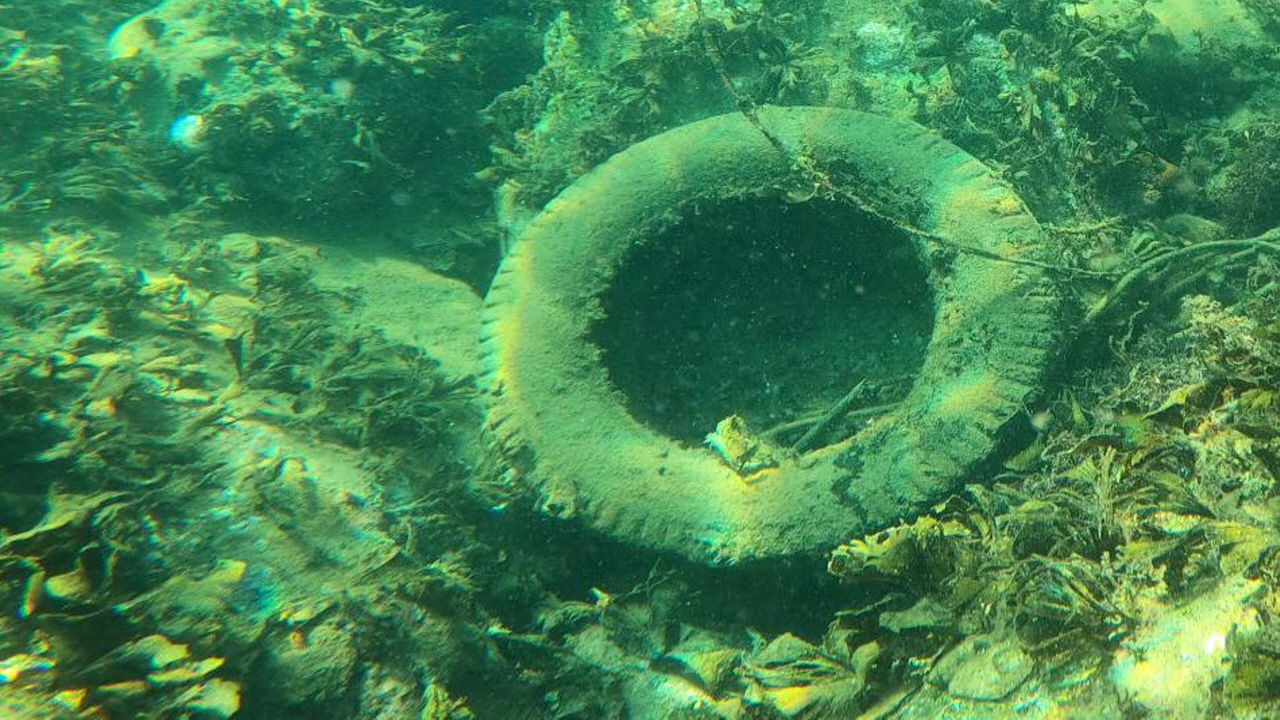tire: (470, 104, 1054, 563)
